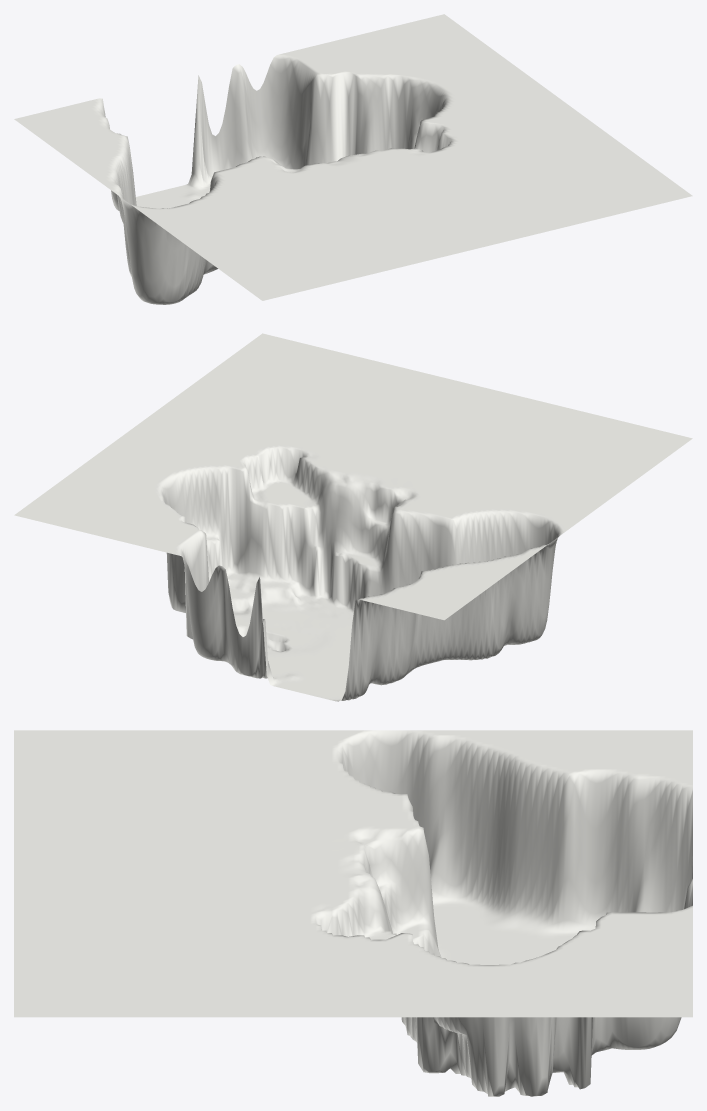
Rendered from SM_Landscape_Test_01.fbx.
3 views of the same model, one above another, from view 1: azimuth 30°, elevation 25°; view 2: azimuth 150°, elevation 25°; view 3: azimuth 270°, elevation 25° (orthographic). The views are drawn at different scales.
Visible parts, largest first — view 1: Landscape; view 2: Landscape; view 3: Landscape.
Boxes of the visible parts, x1,y1,x2,y2 form: Landscape: [14, 14, 692, 304]; Landscape: [14, 333, 692, 701]; Landscape: [14, 730, 692, 1096].
Size of the model in its own units: 12600 by 12600 by 3305.
